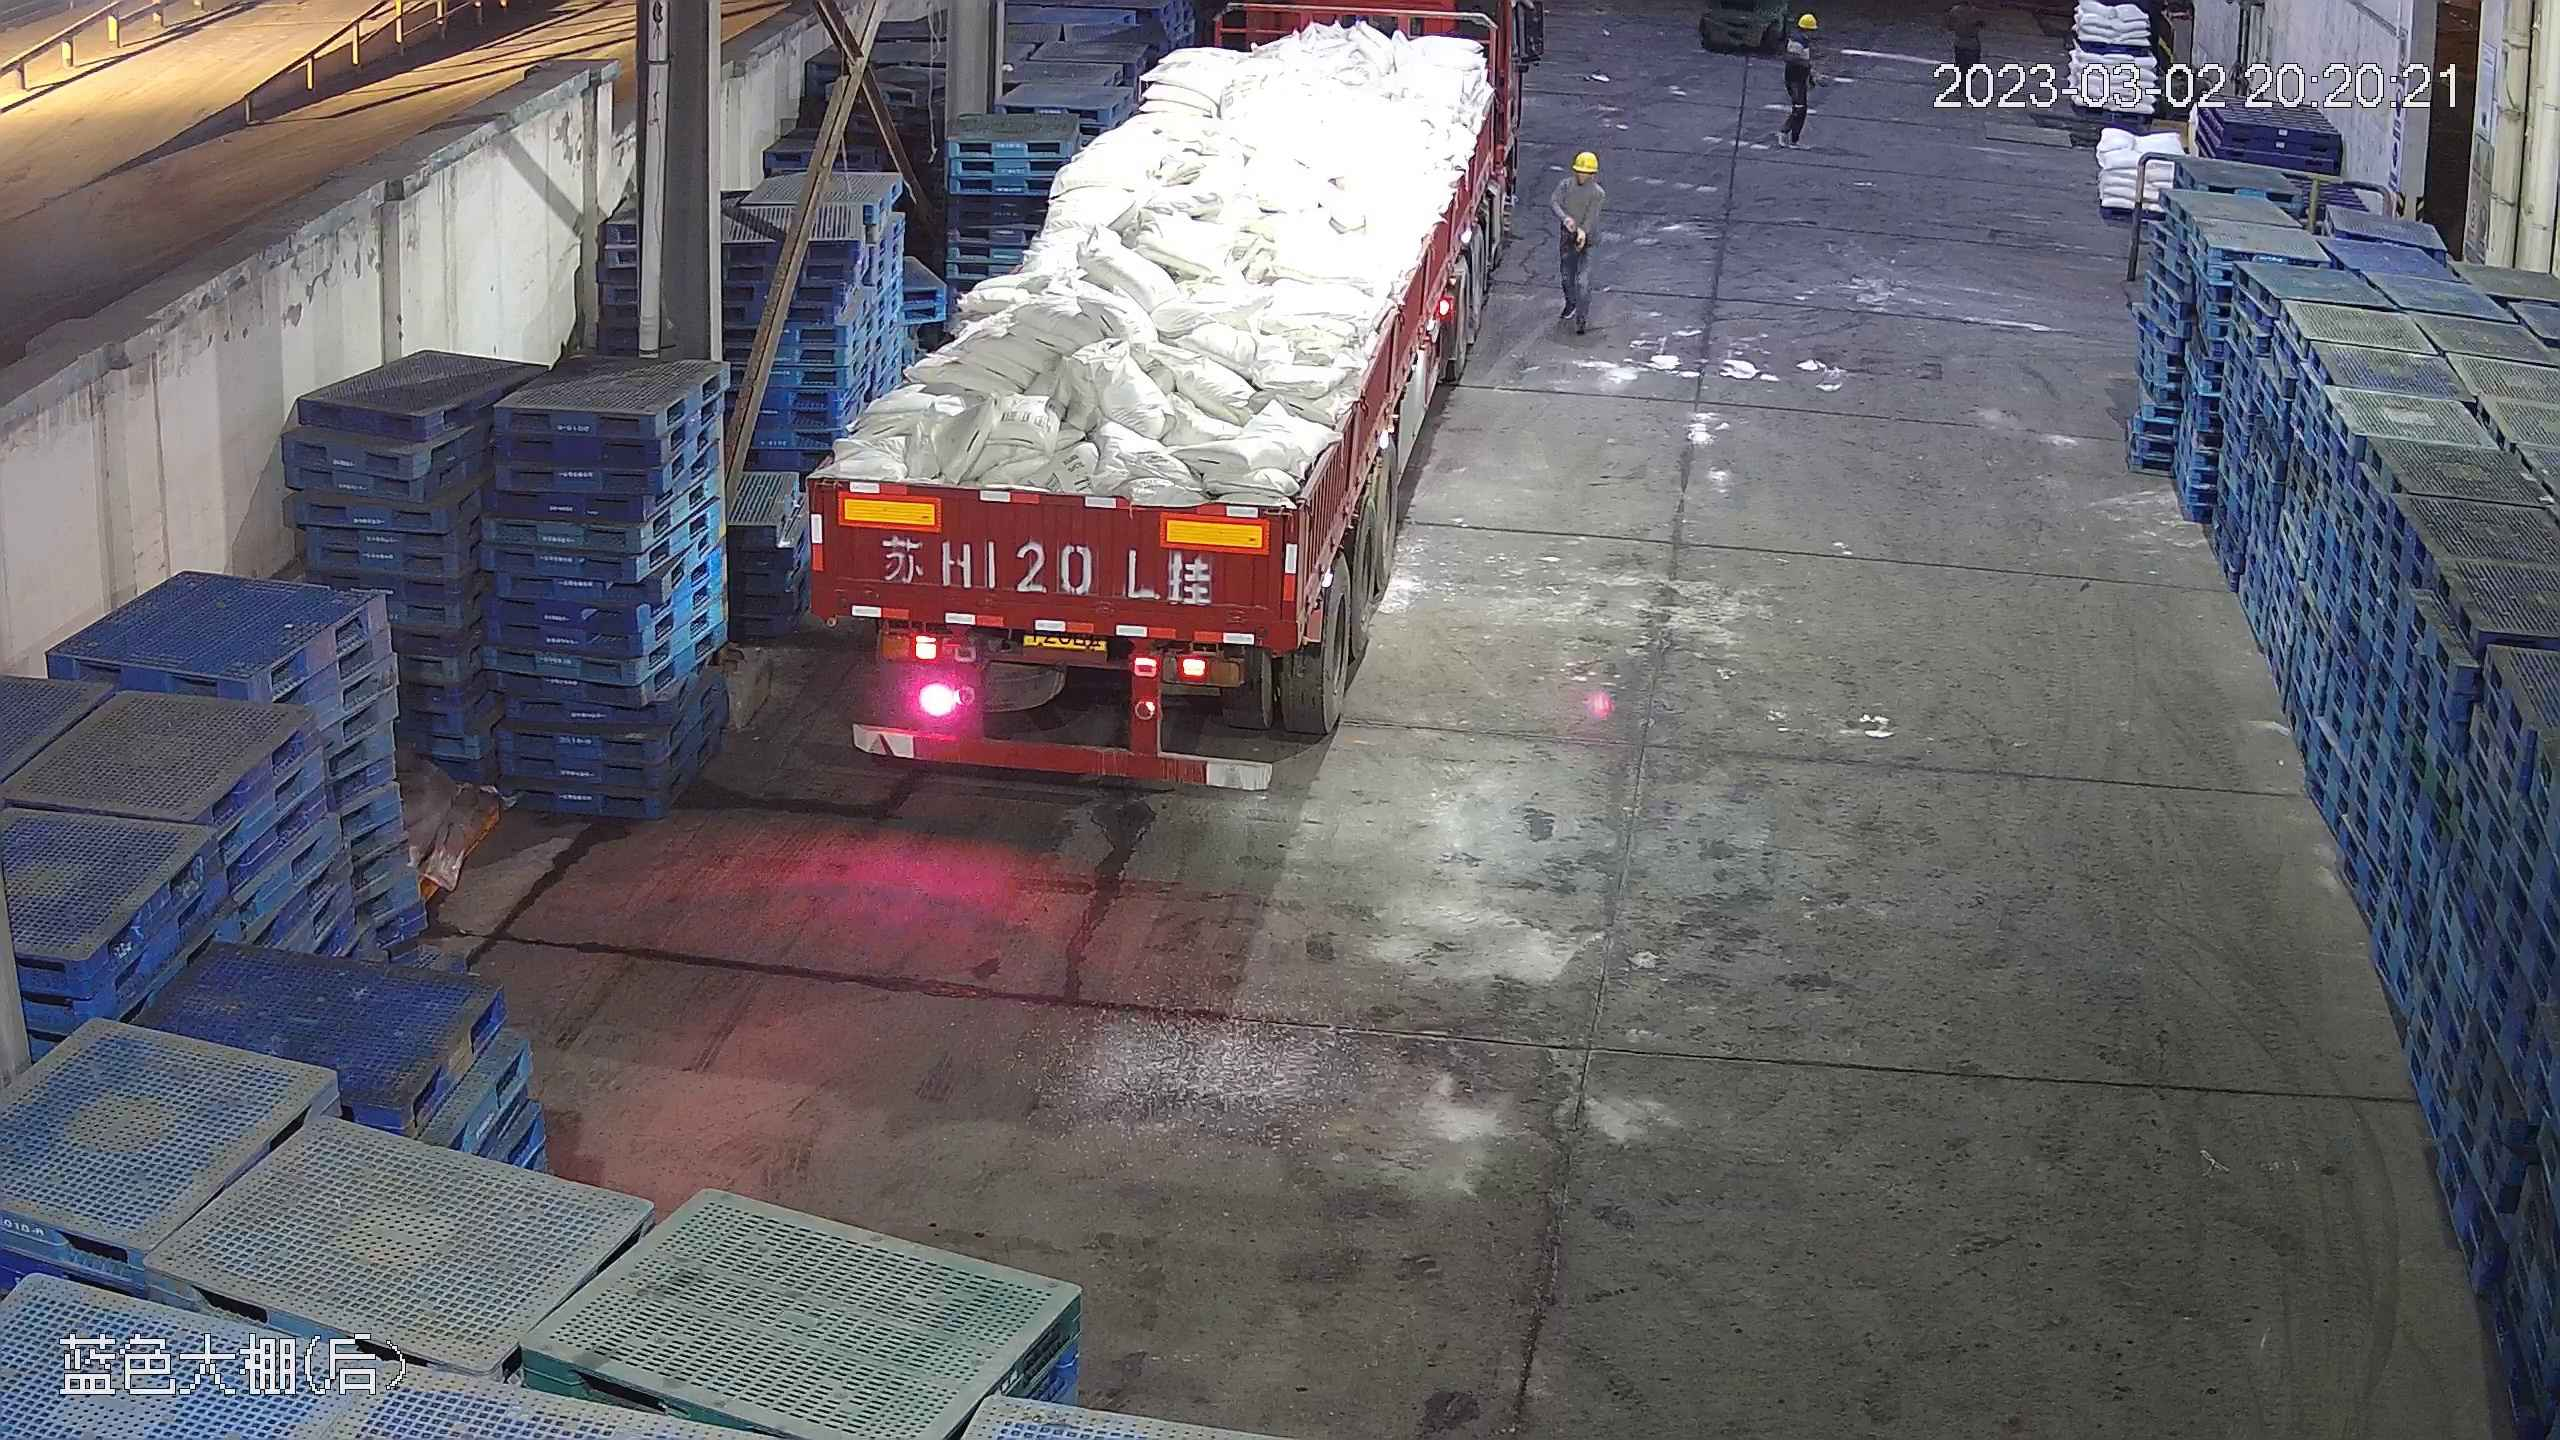head: (1556, 149, 1605, 205), (1782, 10, 1821, 53)
helmet: (1573, 147, 1599, 172), (1792, 10, 1818, 32)
people: (1546, 147, 1607, 336), (1772, 11, 1822, 144)
truck: (790, 3, 1537, 784)
